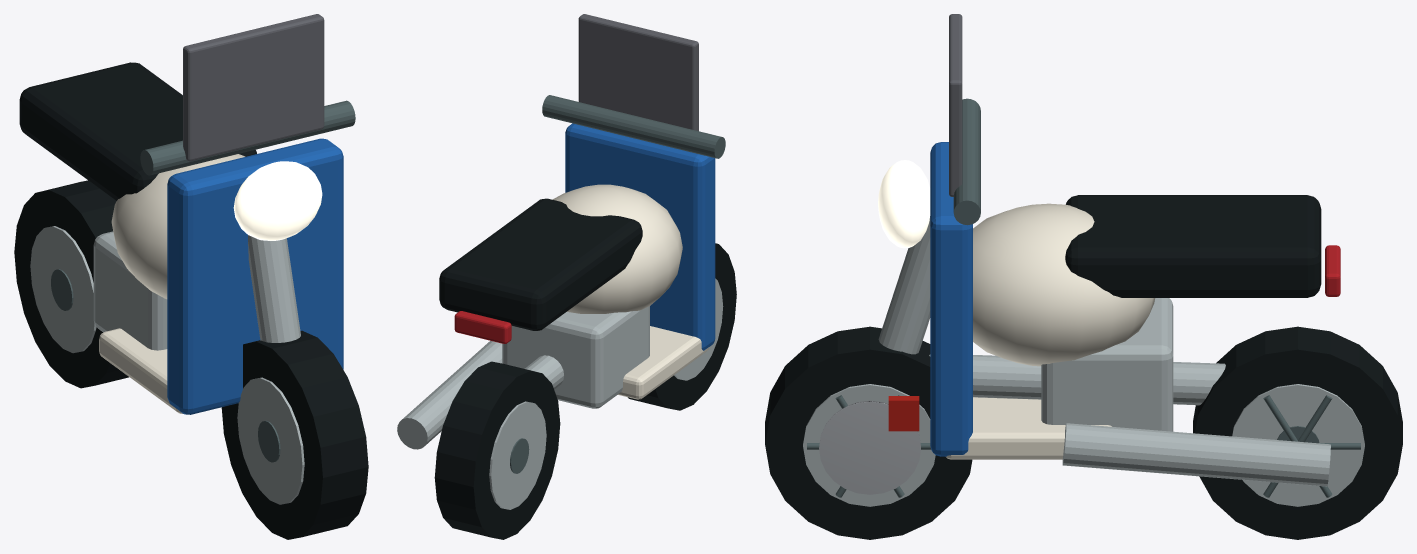
Rendered from hiperreal.glb.
3 views of the same model, side by side, from view 1: azimuth 30°, elevation 25°; view 2: azimuth 150°, elevation 25°; view 3: azimuth 270°, elevation 25° (orthographic). The views are drawn at different scales.
Visible parts, largest first — view 1: Scooter apron, Tyre.001, Windshield, Saddle, Tyre, Rim.001, Rim, Headlight, Fuel tank, Engine, Fork, Footboard (+3 smaller); view 2: Saddle, Scooter apron, Tyre, Windshield, Engine, Fuel tank, Handlebar, Rim, Tyre.001, Exhaust, Footboard, Rear light (+3 smaller); view 3: Saddle, Tyre, Fuel tank, Tyre.001, Scooter apron, Exhaust, Engine, Rim, Hiperreal disco de freno, Footboard, Frame, Rim.001 (+6 smaller).
Part boxes in pixels (x1,y1,x2,y2): Scooter apron: (167, 138, 343, 414); Tyre.001: (221, 330, 368, 539); Windshield: (183, 14, 324, 161); Saddle: (19, 62, 256, 200); Tyre: (14, 180, 128, 388); Rim.001: (237, 377, 304, 504); Rim: (30, 226, 96, 353); Headlight: (233, 161, 322, 240); Fuel tank: (111, 154, 245, 299); Engine: (93, 231, 167, 350); Fork: (248, 235, 300, 342); Footboard: (99, 328, 182, 413); Saddle: (439, 198, 642, 330); Scooter apron: (565, 123, 715, 350); Tyre: (434, 361, 560, 539); Windshield: (578, 14, 698, 131); Engine: (502, 306, 649, 408); Fuel tank: (552, 184, 682, 313); Handlebar: (542, 95, 725, 158); Rim: (489, 401, 546, 509); Tyre.001: (628, 243, 736, 410); Exhaust: (397, 340, 502, 449); Footboard: (618, 326, 709, 399); Rear light: (454, 311, 511, 343); Saddle: (1065, 195, 1321, 297); Tyre: (1193, 326, 1402, 539); Fuel tank: (973, 203, 1155, 366); Tyre.001: (765, 326, 972, 539); Scooter apron: (930, 142, 972, 456); Exhaust: (1062, 423, 1330, 486); Engine: (1041, 298, 1173, 431); Rim: (1232, 384, 1364, 506); Hiperreal disco de freno: (819, 400, 920, 494); Footboard: (946, 397, 1111, 459); Frame: (929, 354, 1225, 405); Rim.001: (803, 384, 935, 506).
Size of the model in its own units: 0.3571 by 0.78 by 0.9371.
